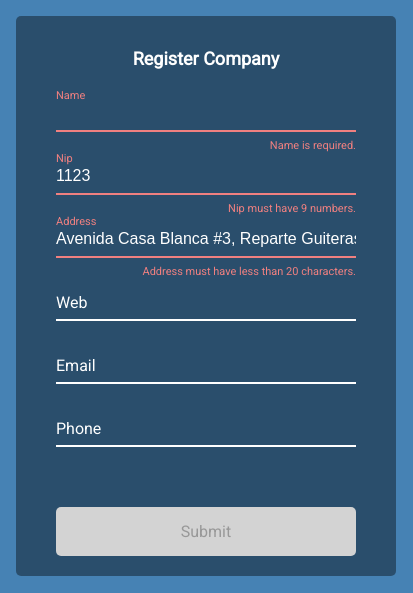
Test: Testing Form Company › Web input should be a valid url
Type "httpmichel" into the field with test id "web-input" at x=206, y=300, box [56,278,356,321]
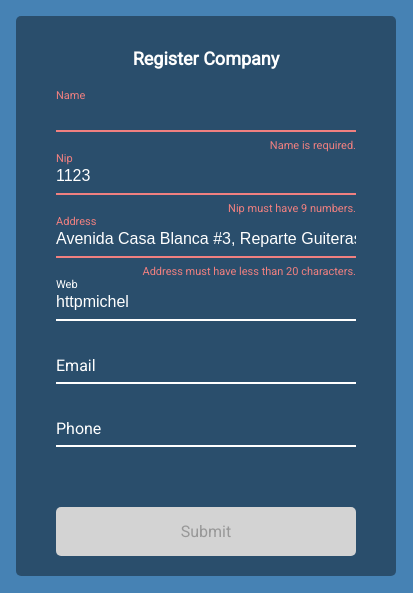
Leave the field with test id "web-input", box [56,278,356,321]
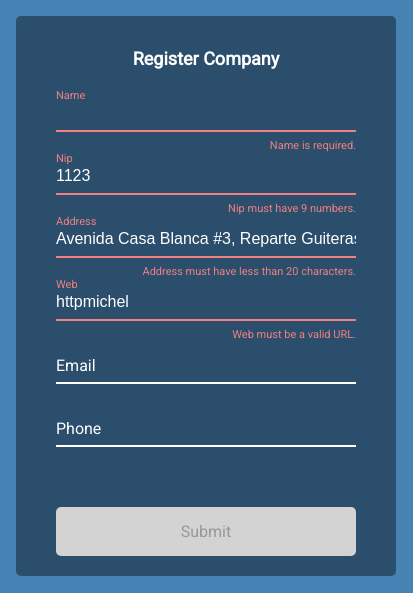
Now the text "Web must be a valid URL." is shown, box [232,328,356,341]
